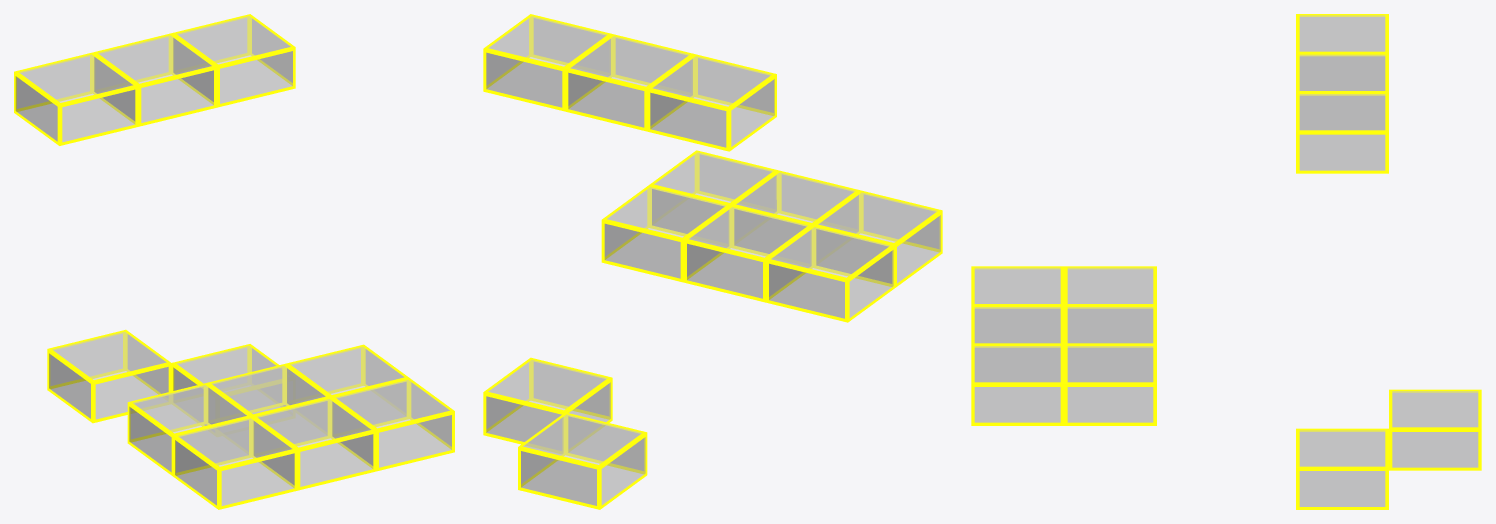
The model's file is (4)M XPlat.fbx.
3 renders of one model, left to right at view 1: azimuth 30°, elevation 25°; view 2: azimuth 150°, elevation 25°; view 3: azimuth 270°, elevation 25°, orthographic. The views are drawn at different scales.
Parts seen in each view (by area): view 1: Platform.005, Platform.009, Platform.013, Platform.002, Platform.011, Platform.007, Platform.010, Platform.006, Platform.004, Platform.003, Platform.012; view 2: Platform.002, Platform.009, Platform.013, Platform.011, Platform.010, Platform.004, Platform.003, Platform.005, Platform.012, Platform.006, Platform.007; view 3: Platform.004, Platform.007, Platform.011, Platform.012, Platform.013, Platform.009, Platform.005, Platform.006, Platform.010, Platform.002, Platform.003.
Part boxes in pixels (box(x1,y1,x2,y2)): Platform.005: box(173, 416, 297, 509); Platform.009: box(14, 52, 138, 145); Platform.013: box(47, 329, 171, 423); Platform.002: box(127, 383, 251, 476); Platform.011: box(172, 14, 295, 107); Platform.007: box(330, 378, 454, 471); Platform.010: box(93, 33, 216, 126); Platform.006: box(252, 397, 376, 490); Platform.004: box(285, 344, 409, 426); Platform.003: box(206, 364, 330, 445); Platform.012: box(171, 344, 285, 426); Platform.002: box(766, 225, 895, 322); Platform.009: box(647, 54, 776, 151); Platform.013: box(518, 412, 647, 509); Platform.011: box(483, 14, 612, 111); Platform.010: box(565, 34, 694, 131); Platform.004: box(601, 185, 730, 282); Platform.003: box(683, 205, 812, 302); Platform.005: box(813, 190, 942, 287); Platform.012: box(483, 357, 612, 453); Platform.006: box(731, 170, 860, 255); Platform.007: box(649, 150, 777, 234); Platform.004: box(1064, 344, 1156, 425); Platform.007: box(971, 344, 1063, 425); Platform.011: box(1296, 92, 1388, 173); Platform.012: box(1296, 428, 1388, 509); Platform.013: box(1389, 389, 1481, 470); Platform.009: box(1296, 14, 1388, 90); Platform.005: box(971, 266, 1063, 342); Platform.006: box(971, 305, 1063, 381); Platform.010: box(1296, 53, 1388, 129); Platform.002: box(1064, 266, 1156, 342); Platform.003: box(1064, 305, 1156, 381).
Bounding box in the file's own units: 600 × 900 × 1100.
